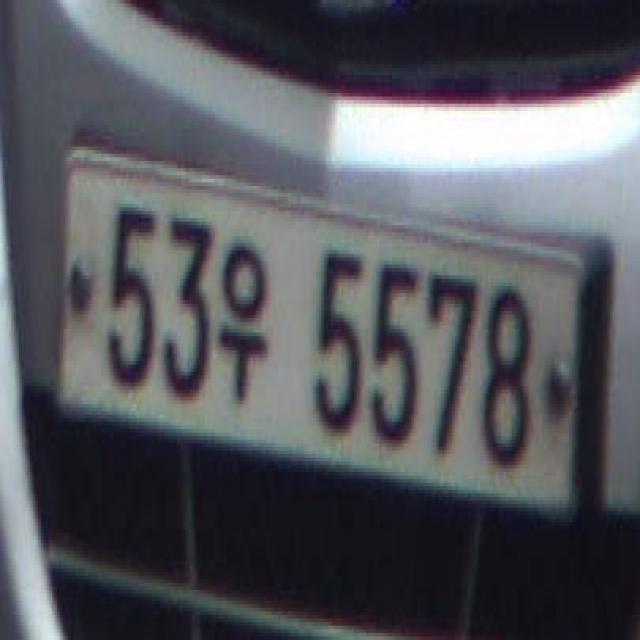3: (157, 196, 210, 414)
5: (307, 233, 373, 462), (364, 236, 428, 472), (102, 179, 160, 404)
7: (428, 247, 479, 490)
8: (477, 282, 547, 490)
license_plate: (41, 140, 596, 568)
u: (210, 232, 283, 404)
